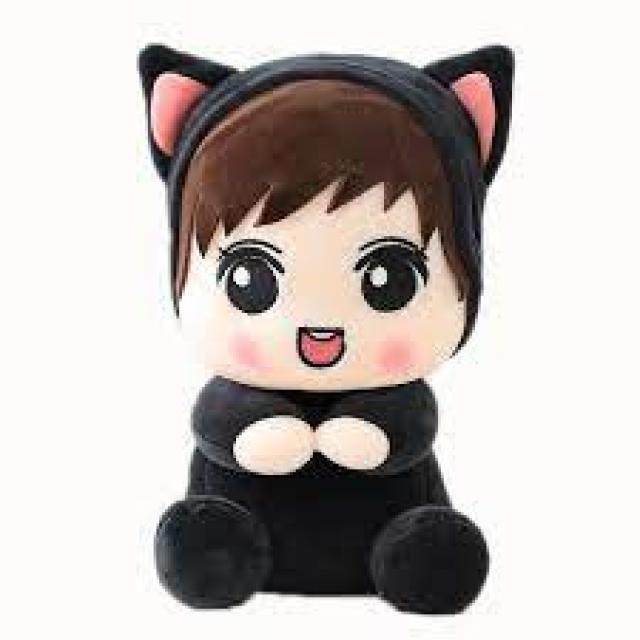soft-toy: (140, 46, 514, 614)
